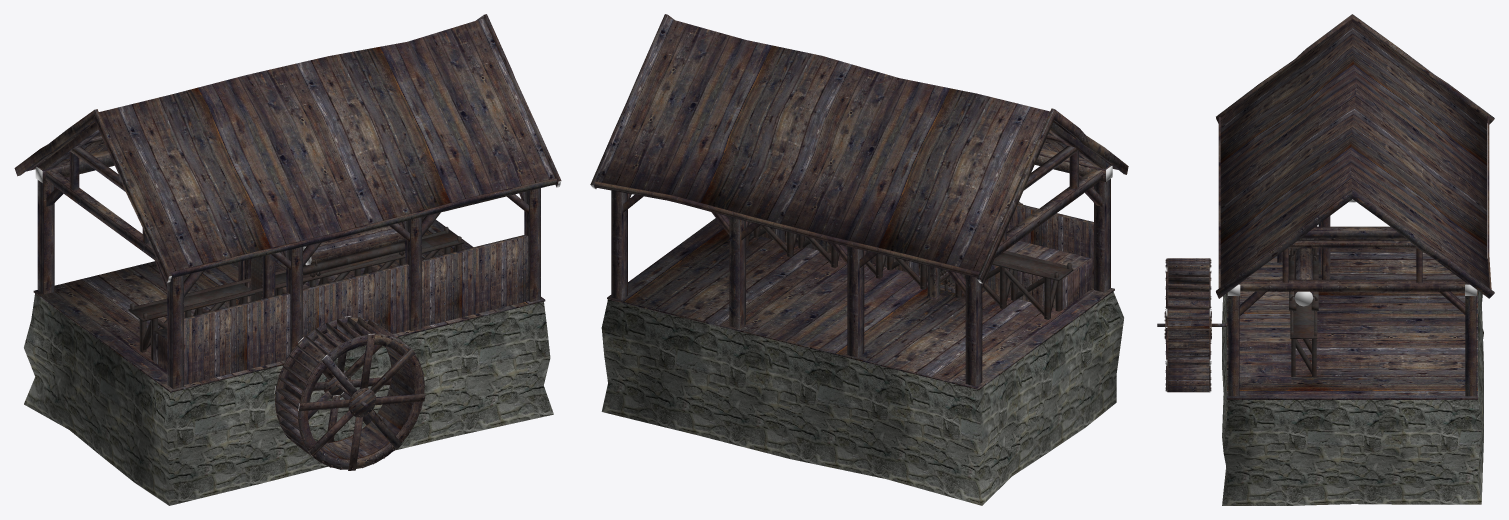
File: roda dagua1111 (1).fbx
3 renders of one model, left to right at view 1: azimuth 30°, elevation 25°; view 2: azimuth 150°, elevation 25°; view 3: azimuth 270°, elevation 25°, orthographic. The views are drawn at different scales.
Parts seen in each view (by area): view 1: Roof, Foundation, Wall, Wheel, WoodenFrame, Floor, RoofFrame, RailPlatform, Log, Rail, RailWagon, SawSliderFrame; view 2: Roof, Foundation, Floor, WoodenFrame, RoofFrame, RailPlatform, Platform, Wall; view 3: Roof, Foundation, Floor, WoodenFrame, Wheel, RoofFrame, Platform, RailPlatform, Log, RailWagon, SawSliderFrame.
Boxes of the visible parts, <box> form: Roof: <box>26,18,554,272</box>; Foundation: <box>24,293,553,505</box>; Wall: <box>184,234,528,384</box>; Wheel: <box>274,316,425,470</box>; WoodenFrame: <box>35,122,544,389</box>; Floor: <box>33,216,545,392</box>; RoofFrame: <box>14,14,561,282</box>; RailPlatform: <box>128,231,464,360</box>; Log: <box>303,222,404,265</box>; Rail: <box>130,227,461,319</box>; RailWagon: <box>303,238,405,277</box>; SawSliderFrame: <box>238,254,275,302</box>; Roof: <box>596,18,1116,271</box>; Foundation: <box>601,291,1123,505</box>; Floor: <box>607,216,1114,389</box>; WoodenFrame: <box>611,122,1112,386</box>; RoofFrame: <box>590,14,1128,283</box>; RailPlatform: <box>746,222,1073,319</box>; Platform: <box>750,226,1092,309</box>; Wall: <box>1006,203,1093,288</box>; Roof: <box>1220,18,1489,287</box>; Foundation: <box>1222,291,1483,505</box>; Floor: <box>1227,238,1477,399</box>; WoodenFrame: <box>1227,199,1477,396</box>; Wheel: <box>1157,258,1226,392</box>; RoofFrame: <box>1216,14,1494,298</box>; Platform: <box>1239,248,1291,382</box>; RailPlatform: <box>1290,226,1317,376</box>; Log: <box>1294,248,1313,306</box>; RailWagon: <box>1289,254,1318,311</box>; SawSliderFrame: <box>1277,216,1330,279</box>.
Size of the model in its own units: 1105 by 929 by 892.
5 materials, 4 textured.
